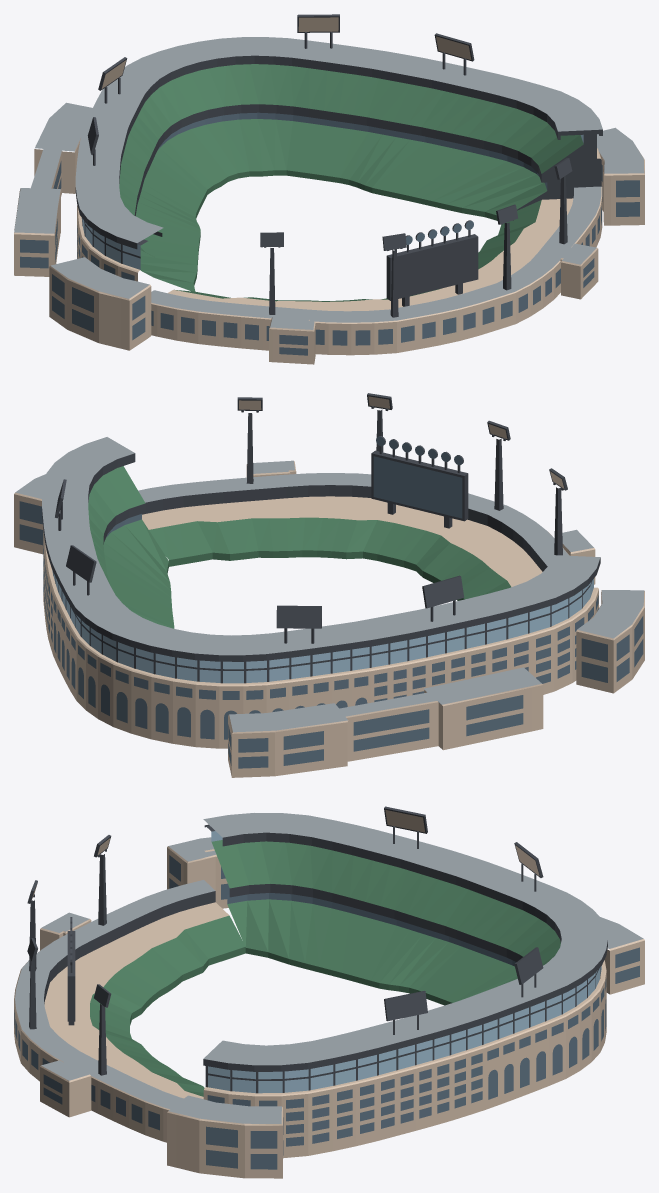
Rendered from chi-rate-field.glb.
The picture shows the model from 3 angles, top to bottom: view 1: azimuth 30°, elevation 25°; view 2: azimuth 150°, elevation 25°; view 3: azimuth 270°, elevation 25°; orthographic projection. The views are drawn at different scales.
Visible parts, largest first — view 1: Rate Field; view 2: Rate Field; view 3: Rate Field.
Boxes of the visible parts, left/top/right/bottom form: Rate Field: left=14, top=14, right=644, bottom=364; Rate Field: left=14, top=393, right=644, bottom=777; Rate Field: left=14, top=806, right=644, bottom=1178.
Size of the model in its own units: 277 by 57.5 by 253.
